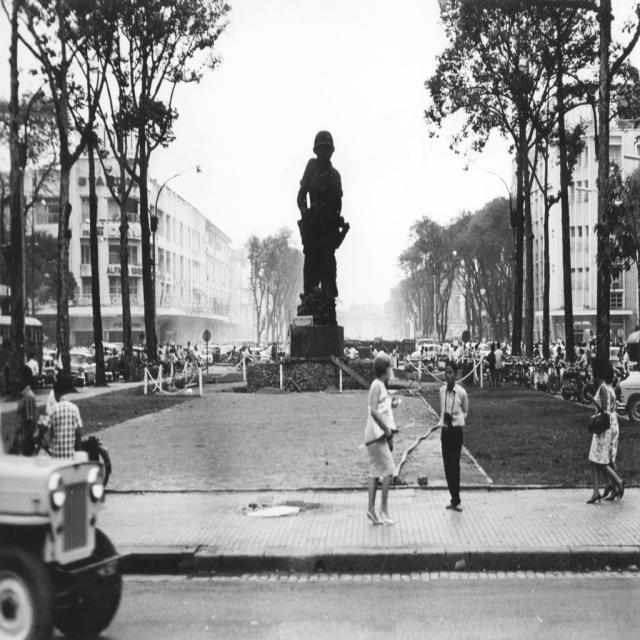car: (0, 396, 115, 630), (69, 344, 97, 387)
